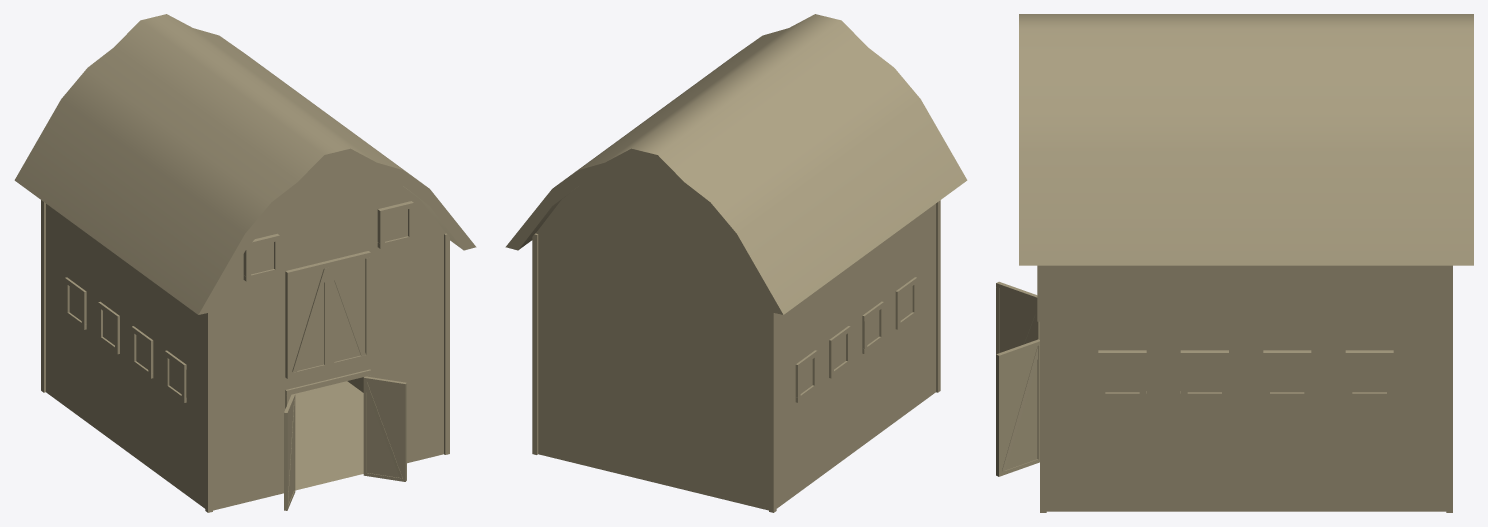
File: RandyBarnFBX.FBX
3 renders of one model, left to right at view 1: azimuth 30°, elevation 25°; view 2: azimuth 150°, elevation 25°; view 3: azimuth 270°, elevation 25°, orthographic. The views are drawn at different scales.
Parts seen in each view (by area): view 1: House; view 2: House; view 3: House.
Part boxes in pixels (bbox=[...]): House: bbox=[14, 14, 476, 512]; House: bbox=[505, 14, 967, 512]; House: bbox=[996, 14, 1473, 512].
Bounding box in the file's own units: 58.56 × 67.97 × 70.44.
